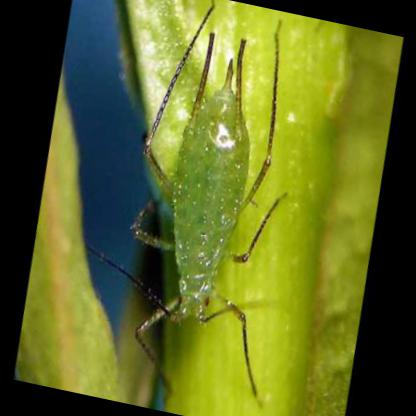uroleucon compositae: (133, 6, 280, 402)
